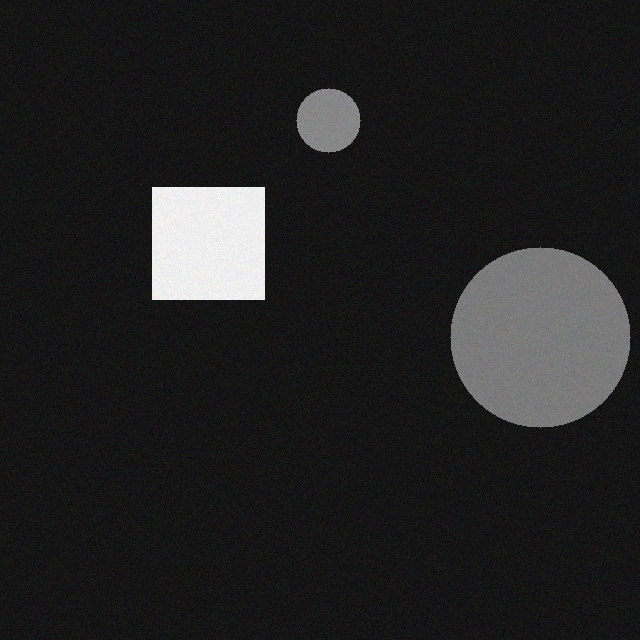circle: (444, 246, 624, 426), (290, 87, 354, 151)
square: (146, 186, 258, 298)
